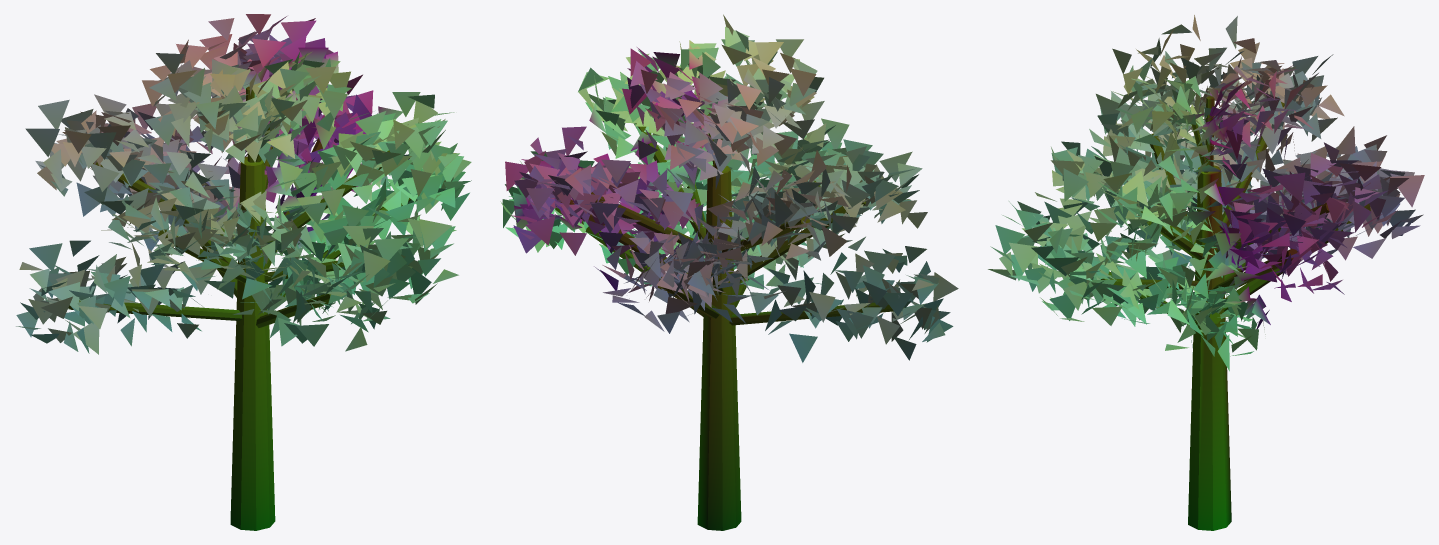
Rendered from mature_broadleaf_02.glb.
3 renders of one model, left to right at view 1: azimuth 30°, elevation 25°; view 2: azimuth 150°, elevation 25°; view 3: azimuth 270°, elevation 25°, orthographic. The views are drawn at different scales.
Visible parts, largest first — view 1: mature_broadleaf_02; view 2: mature_broadleaf_02; view 3: mature_broadleaf_02.
Part boxes in pixels (left/top/right/bottom): mature_broadleaf_02: left=16, top=14, right=471, bottom=530; mature_broadleaf_02: left=500, top=14, right=958, bottom=530; mature_broadleaf_02: left=988, top=15, right=1424, bottom=530.
Size of the model in its own units: 14.51 by 14.7 by 12.46.
